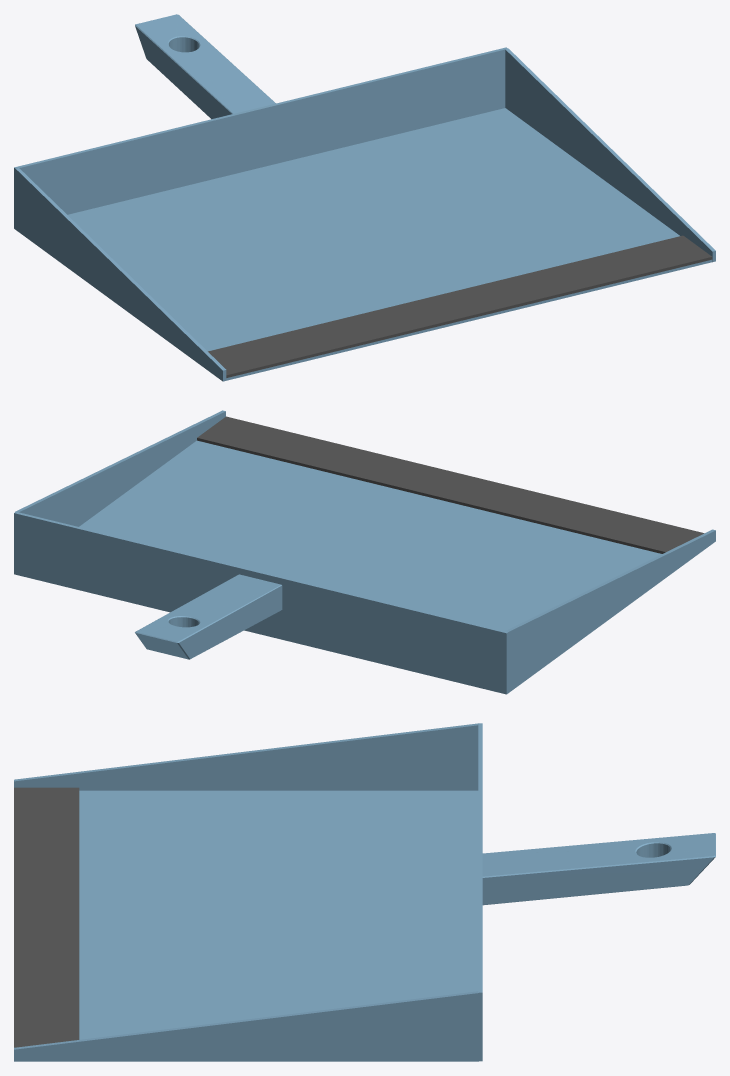
File: DustPan.fbx
3 renders of one model, top to bottom at view 1: azimuth 30°, elevation 25°; view 2: azimuth 150°, elevation 25°; view 3: azimuth 270°, elevation 25°, orthographic. The views are drawn at different scales.
Parts seen in each view (by area): view 1: pCube6, pCube7; view 2: pCube6, pCube7; view 3: pCube6, pCube7.
Part boxes in pixels (x1,y1,x2,y2): pCube6: (14,14,715,381); pCube7: (208,235,712,377); pCube6: (14,410,715,694); pCube7: (197,416,704,553); pCube6: (14,723,715,1061); pCube7: (14,787,79,1047).
Size of the model in its own units: 8.43 by 1.2 by 9.28.
